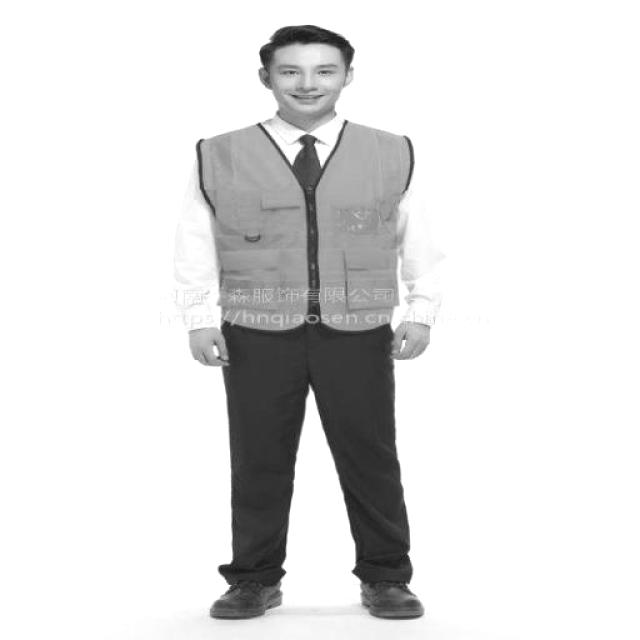face_nomask: (272, 55, 338, 114)
hand_noglove: (178, 316, 238, 372), (378, 318, 431, 364)
head_nohelmet: (255, 18, 355, 64)
person: (163, 25, 445, 620)
shoes: (204, 559, 294, 621), (342, 562, 431, 624)
vest: (180, 115, 420, 337)
